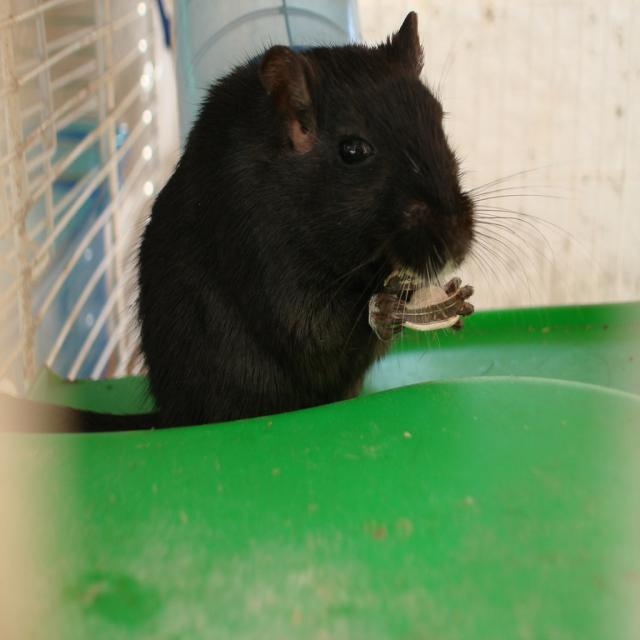rat: (135, 11, 480, 428)
